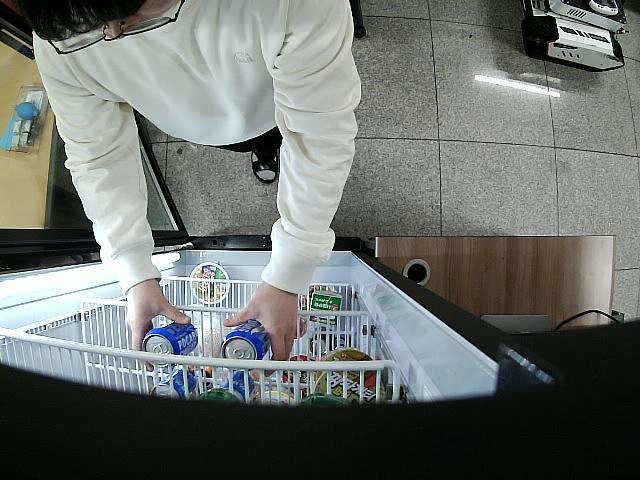00_hand: (223, 285, 301, 377), (125, 289, 192, 373)
13_pocariSweat: (139, 323, 199, 372), (221, 323, 269, 359)
